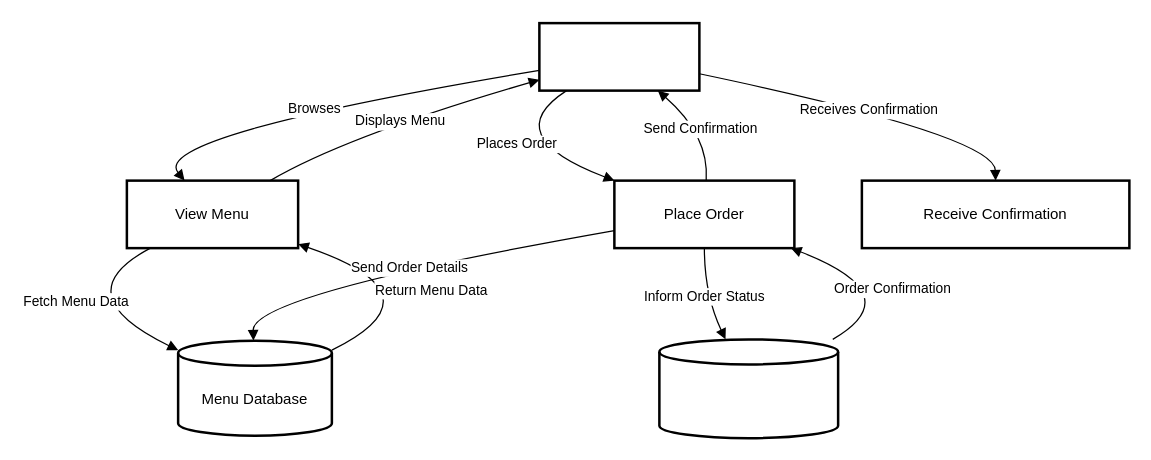
This 1151x460 diagram has some shape labels left out. The shapes that lost their labels are listed below. From the top down, each one's box as (x1, y1, x2, y2) in pixels, then its label:
(538, 21, 700, 91): Customer
(658, 338, 839, 439): Restaurant Owner
